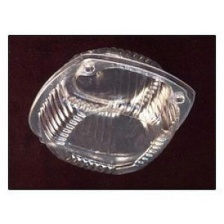plastic_box: (20, 40, 200, 182)
